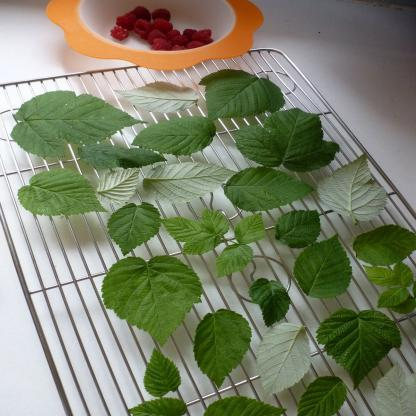Raspberry leaf: (96, 258, 206, 348), (6, 90, 142, 158), (315, 311, 406, 388), (232, 108, 344, 161), (17, 166, 111, 221), (197, 65, 286, 123), (318, 146, 386, 220), (258, 318, 312, 401), (194, 308, 248, 390), (296, 230, 361, 298), (140, 160, 240, 204), (220, 164, 314, 206), (100, 200, 163, 257), (134, 116, 214, 152), (249, 276, 292, 323)
